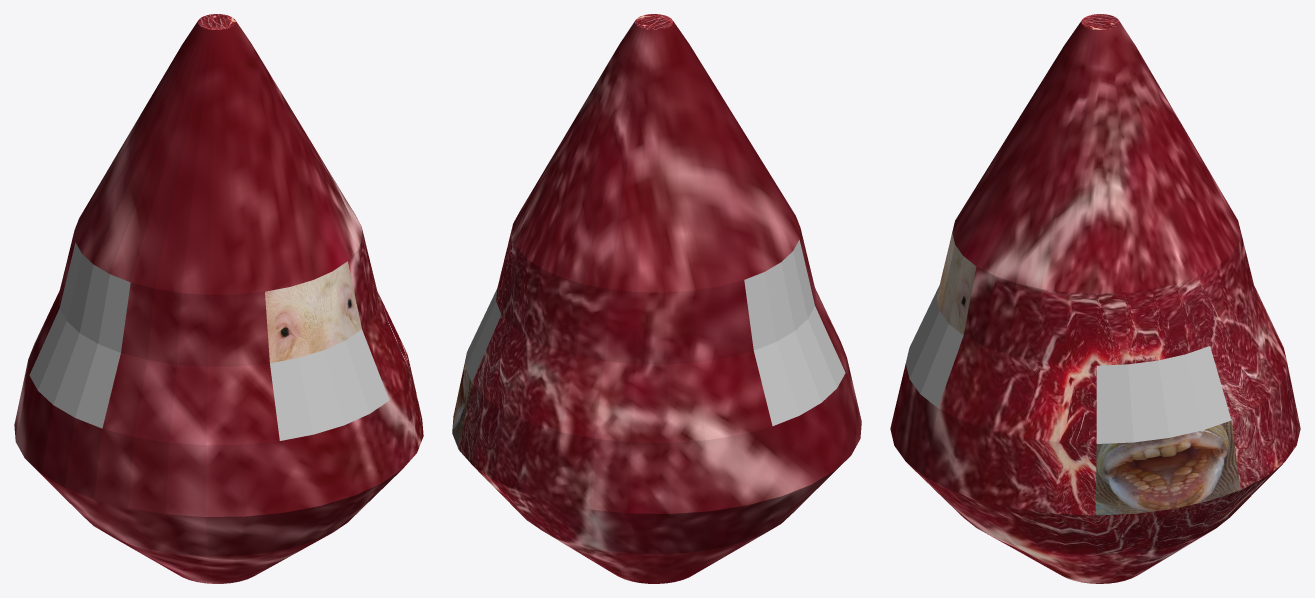
Rendered from meatHumanChunk.fbx.
The picture shows the model from 3 angles, left to right: view 1: azimuth 30°, elevation 25°; view 2: azimuth 150°, elevation 25°; view 3: azimuth 270°, elevation 25°; orthographic projection.
Parts seen in each view (by area): view 1: Cylinder, Cylinder.004, Cylinder.003, Cylinder.002, Cylinder.001; view 2: Cylinder, Cylinder.002, Cylinder.001, Cylinder.005, Cylinder.006; view 3: Cylinder, Cylinder.006, Cylinder.005, Cylinder.004, Cylinder.003.
Boxes of the visible parts, x1,y1,x2,y2 form: Cylinder: [14, 14, 423, 583]; Cylinder.004: [270, 329, 389, 440]; Cylinder.003: [265, 261, 361, 363]; Cylinder.002: [29, 308, 120, 428]; Cylinder.001: [60, 242, 130, 352]; Cylinder: [458, 14, 861, 583]; Cylinder.002: [754, 306, 845, 425]; Cylinder.001: [744, 240, 814, 350]; Cylinder.005: [466, 288, 501, 382]; Cylinder.006: [452, 353, 471, 449]; Cylinder: [890, 14, 1300, 583]; Cylinder.006: [1095, 420, 1240, 515]; Cylinder.005: [1096, 346, 1231, 443]; Cylinder.004: [906, 286, 963, 407]; Cylinder.003: [936, 233, 976, 335].
Size of the model in its own units: 284 by 415 by 284.
